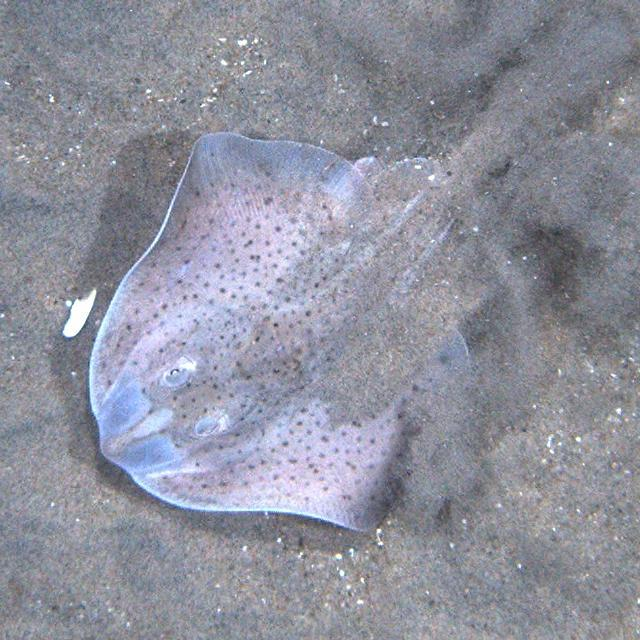skate: (74, 118, 537, 532)
